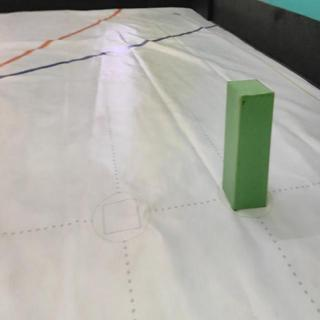greenbox: (221, 78, 278, 211)
